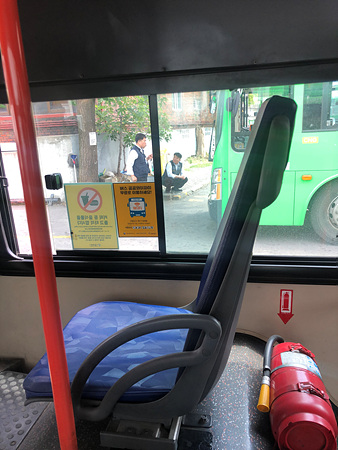seat: (33, 101, 293, 410)
